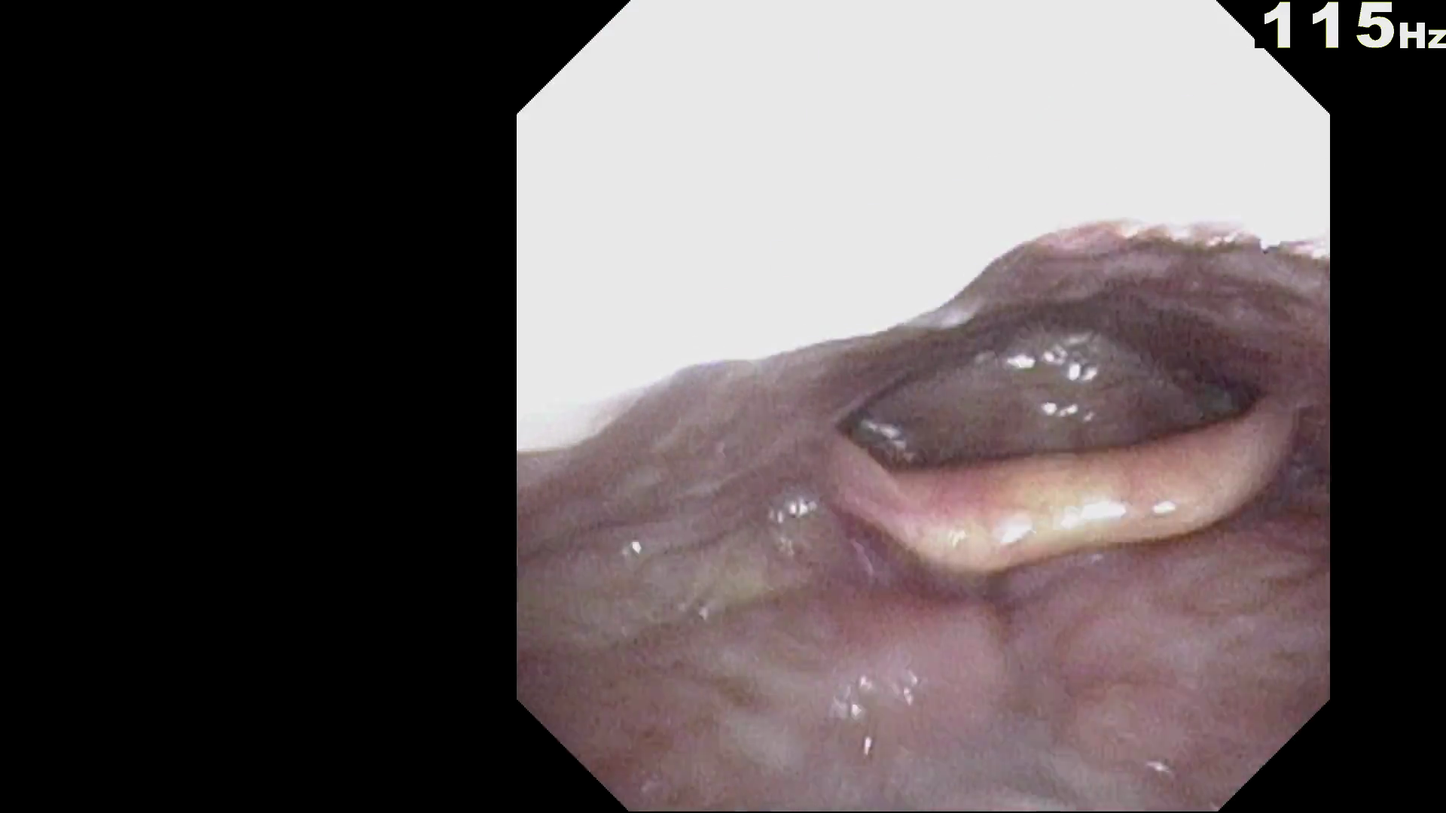epiglottis: (781, 372, 1306, 611)
